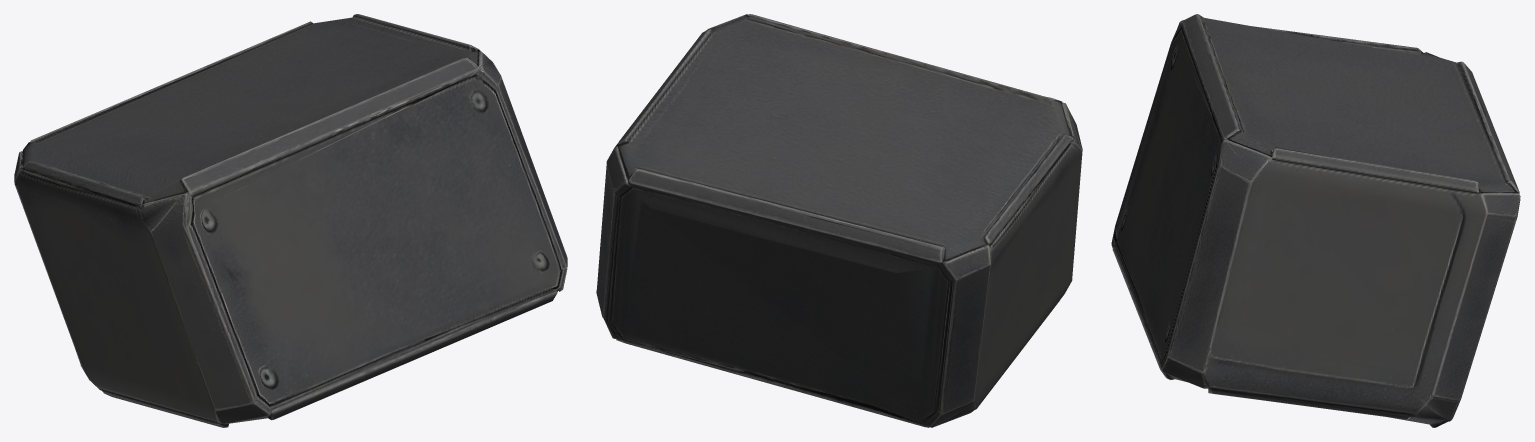
File: cold-iron-v2-panel-c-ribbed.glb
3 renders of one model, left to right at view 1: azimuth 30°, elevation 25°; view 2: azimuth 150°, elevation 25°; view 3: azimuth 270°, elevation 25°, orthographic. The views are drawn at different scales.
Parts seen in each view (by area): view 1: tripo_node_7962fd18-9f55-4cb0-868e-1081ee6857de; view 2: tripo_node_7962fd18-9f55-4cb0-868e-1081ee6857de; view 3: tripo_node_7962fd18-9f55-4cb0-868e-1081ee6857de.
Part boxes in pixels (<box>): tripo_node_7962fd18-9f55-4cb0-868e-1081ee6857de: <box>14,14,567,427</box>; tripo_node_7962fd18-9f55-4cb0-868e-1081ee6857de: <box>596,14,1082,427</box>; tripo_node_7962fd18-9f55-4cb0-868e-1081ee6857de: <box>1111,14,1520,427</box>.
Size of the model in its own units: 0.9917 by 0.6872 by 0.8142.
Materials: 1 (1 with a texture image).
